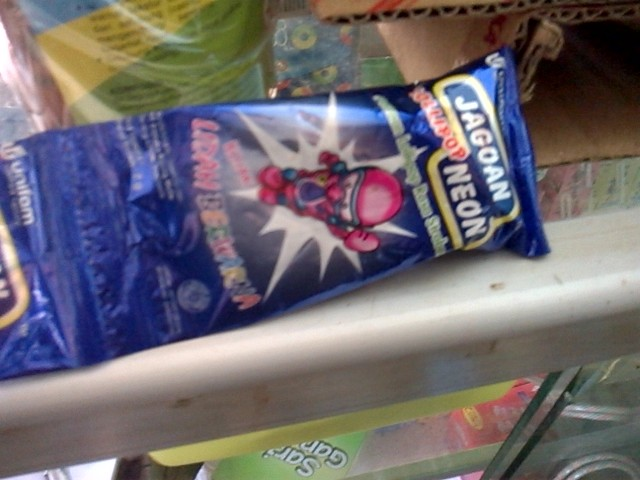jagoan neon: (66, 45, 553, 352)
